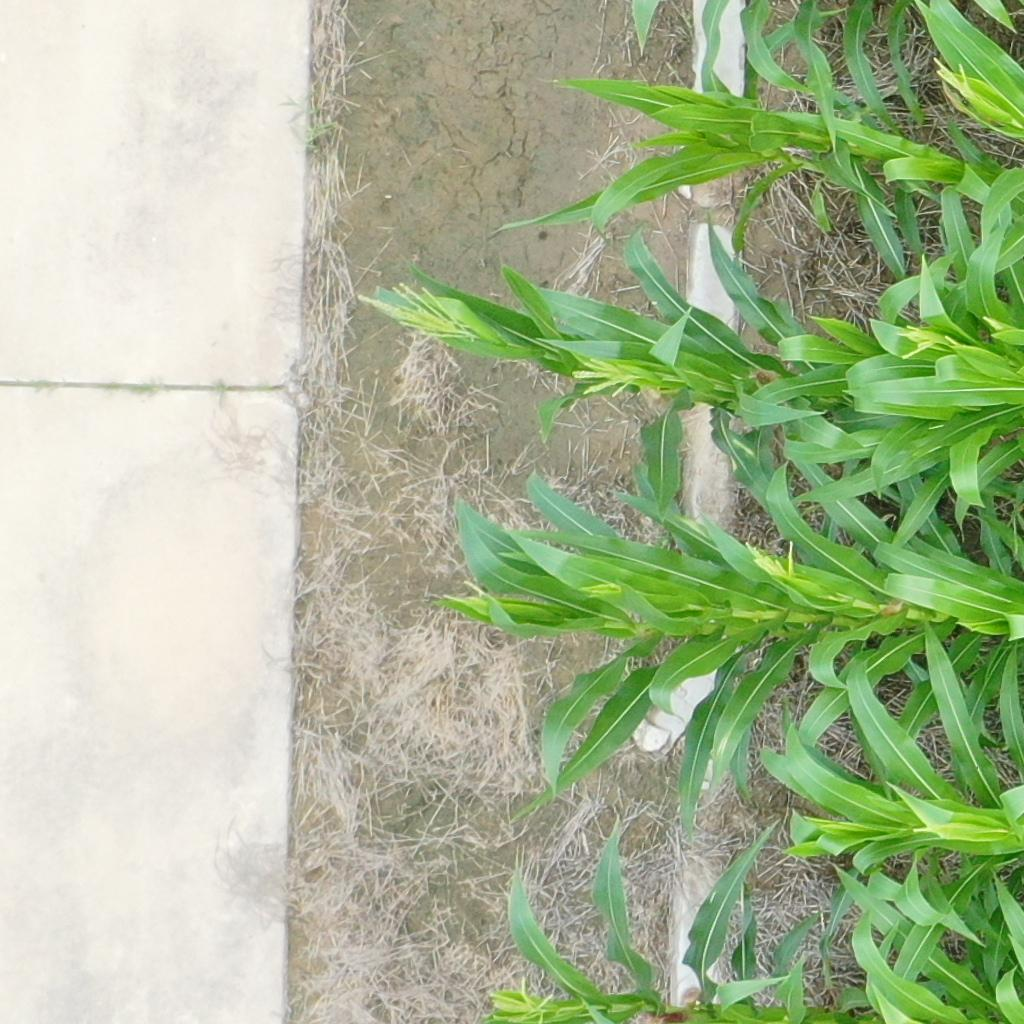Tassel: (352, 280, 484, 347), (567, 351, 645, 400), (485, 974, 559, 1023), (898, 318, 964, 365), (741, 537, 800, 585), (929, 56, 978, 105), (442, 579, 494, 618), (575, 574, 627, 603), (909, 819, 955, 843), (979, 310, 1010, 336)
